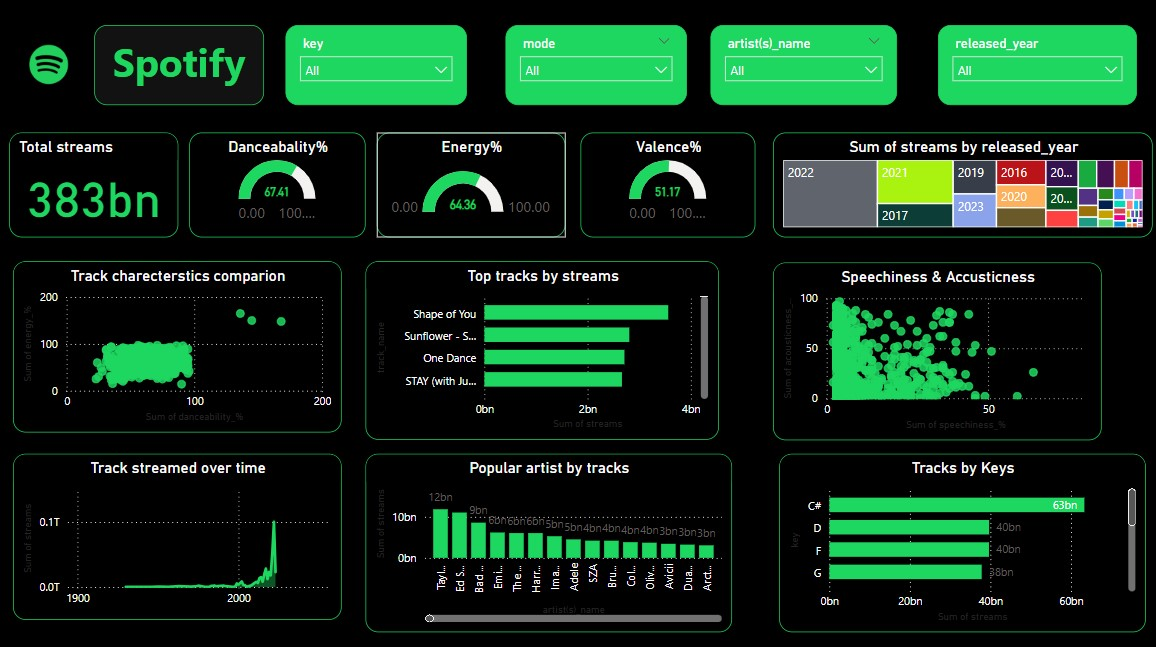

Layout of this report page (visuals, bound fields, positions):
{"tool":"powerbi","page":{"name":"Page 1","canvas":[1280,720],"ordinal":0},"visuals":[{"type":"slicer","fields":{"Values":["spotify-2023.key"]},"box":[315.6,27.4,199,87.8],"z":0},{"type":"slicer","fields":{"Values":["spotify-2023.released_year"]},"box":[1031.9,27.4,218.2,87.8],"z":1},{"type":"slicer","fields":{"Values":["spotify-2023.artist(s)_name"]},"box":[782.2,27.4,204.5,87.8],"z":2},{"type":"slicer","fields":{"Values":["spotify-2023.mode"]},"box":[557.1,27.4,199,87.8],"z":3},{"type":"card","title":"Total streams","fields":{"Values":["Sum(spotify-2023.streams)"]},"box":[12.3,145.5,185.2,115.3],"z":4},{"type":"gauge","title":"Danceabality%","fields":{"Y":["Avg(spotify-2023.danceability_%)"]},"box":[209.9,145.5,193.5,115.3],"z":5},{"type":"gauge","title":"Energy%","fields":{"Y":["Avg(spotify-2023.energy_%)"]},"box":[415.8,145.5,207.2,115.3],"z":6},{"type":"gauge","title":"Valence%","fields":{"Y":["Avg(spotify-2023.valence_%)"]},"box":[639.5,145.5,192.1,115.3],"z":7},{"type":"treemap","fields":{"Group":["spotify-2023.released_year"],"Values":["Sum(spotify-2023.streams)"]},"box":[850.8,145.5,417.2,115.3],"z":8},{"type":"scatterChart","title":"Track charecterstics comparion","fields":{"Category":["spotify-2023.streams"],"X":["Sum(spotify-2023.danceability_%)"],"Y":["Sum(spotify-2023.energy_%)"]},"box":[16.5,286.8,360.9,188],"z":9},{"type":"clusteredBarChart","title":"Top tracks by streams","fields":{"Category":["spotify-2023.track_name"],"Y":["Sum(spotify-2023.streams)"]},"box":[403.4,286.8,388.3,196.2],"z":10},{"type":"scatterChart","title":"Speechiness & Accusticness","fields":{"Category":["spotify-2023.streams"],"X":["Sum(spotify-2023.speechiness_%)"],"Y":["Sum(spotify-2023.acousticness_%)"]},"box":[850.8,288.2,360.9,194.9],"z":11},{"type":"areaChart","title":"Track streamed over time","fields":{"Category":["spotify-2023.released_year"],"Y":["Sum(spotify-2023.streams)"]},"box":[16.5,498.1,360.9,182.5],"z":12},{"type":"columnChart","title":"Popular artist by tracks","fields":{"Category":["spotify-2023.artist(s)_name"],"Y":["Sum(spotify-2023.streams)"]},"box":[403.4,498.1,402.1,196.2],"z":13},{"type":"barChart","title":"Tracks by Keys","fields":{"Y":["Sum(spotify-2023.streams)"],"Category":["spotify-2023.key"]},"box":[857.6,498.1,402.1,196.2],"z":14},{"type":"image","box":[0,23.3,111.1,94.7],"z":15},{"type":"textbox","box":[105.7,27.4,186.6,87.8],"z":16}]}

Visuals, with their boxes in screenshot pixels (x1, y1, x2, y2), scaled from the page's 1280x720 canvas onto the 1156x647 screenshot:
slicer - spotify-2023.key: [285,25,465,104]
slicer - spotify-2023.released_year: [932,25,1129,104]
slicer - spotify-2023.artist(s)_name: [706,25,891,104]
slicer - spotify-2023.mode: [503,25,683,104]
"Total streams" card: [11,131,178,234]
"Danceabality%" gauge: [190,131,364,234]
"Energy%" gauge: [376,131,563,234]
"Valence%" gauge: [578,131,751,234]
treemap - spotify-2023.released_year x Sum(spotify-2023.streams): [768,131,1145,234]
"Track charecterstics comparion" scatterChart: [15,258,341,427]
"Top tracks by streams" clusteredBarChart: [364,258,715,434]
"Speechiness & Accusticness" scatterChart: [768,259,1094,434]
"Track streamed over time" areaChart: [15,448,341,612]
"Popular artist by tracks" columnChart: [364,448,727,624]
"Tracks by Keys" barChart: [775,448,1138,624]
image: [0,21,100,106]
textbox: [95,25,264,104]
